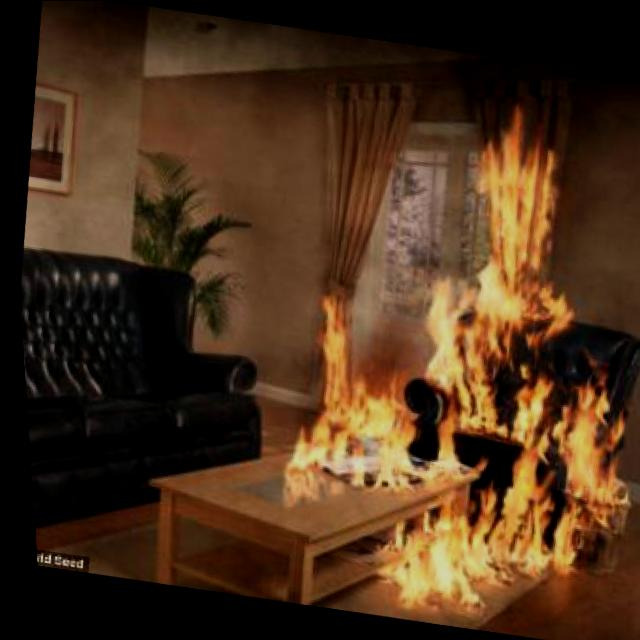Fire: (354, 350, 640, 640), (386, 96, 602, 440), (235, 276, 456, 539)
